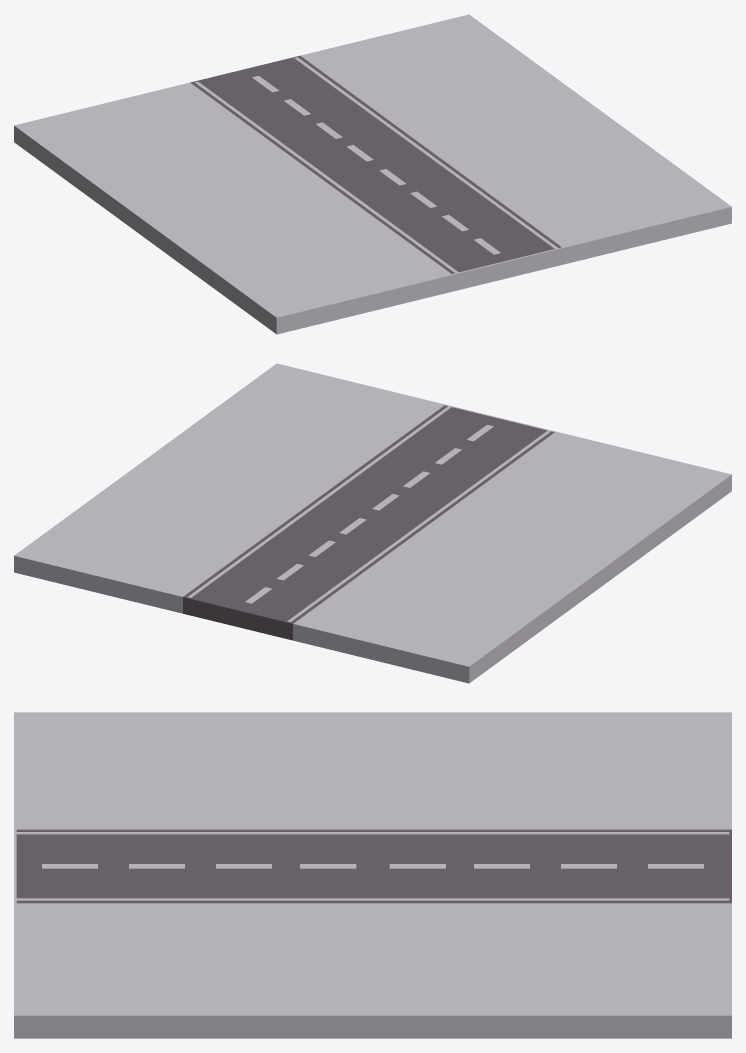
File: Street-2-Street.obj
The picture shows the model from 3 angles, top to bottom: view 1: azimuth 30°, elevation 25°; view 2: azimuth 150°, elevation 25°; view 3: azimuth 270°, elevation 25°; orthographic projection. The views are drawn at different scales.
Visible parts, largest first — view 1: Street; view 2: Street; view 3: Street.
Boxes of the visible parts, left/top/right/bottom form: Street: left=14, top=14, right=731, bottom=334; Street: left=14, top=363, right=731, bottom=683; Street: left=14, top=712, right=731, bottom=1038.
Size of the model in its own units: 25.6 by 0.9 by 25.6.
Materials: 1 (1 with a texture image).
